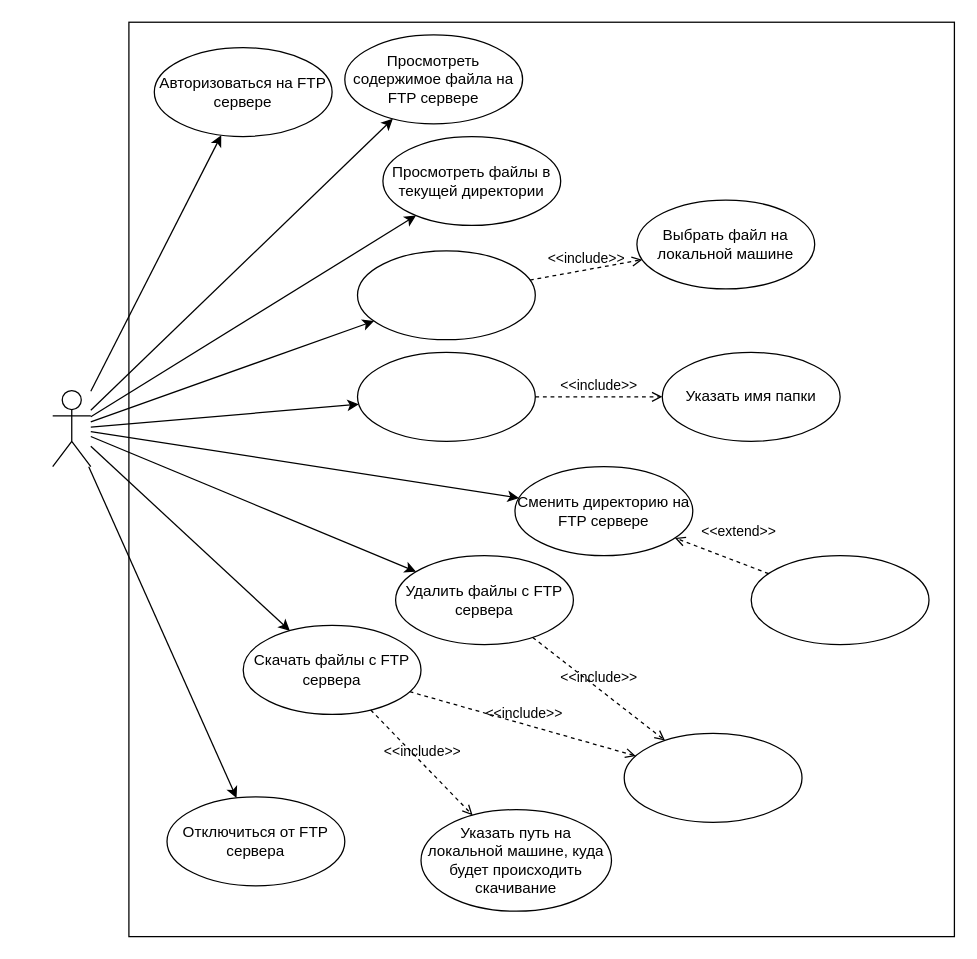
Image size: 977x959. Some labels were removed from this diagram. The shapes that lost their labels are listed below. From the top down, each one's box as (x1, y1, x2, y2) in pixels, then its label:
(356, 250, 535, 340): Загрузить файл на FTP сервер
(356, 351, 535, 441): Создать папку на FTP сервере
(51, 389, 91, 467): Пользователь
(750, 554, 929, 645): Вернуться в корневую директорию
(623, 732, 802, 822): Выбрать список файлов на FTP сервере
